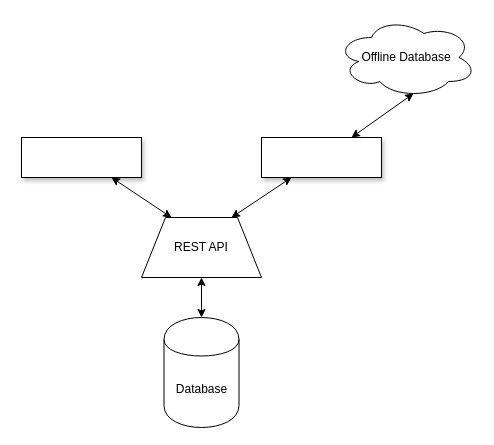
This 494x445 diagram has some shape labels left out. Here are the shapes that lost their labels. From the top down, the centre of each, then its label:
point (82, 158): Back Office Web Client
point (322, 158): POS Mobile Client
